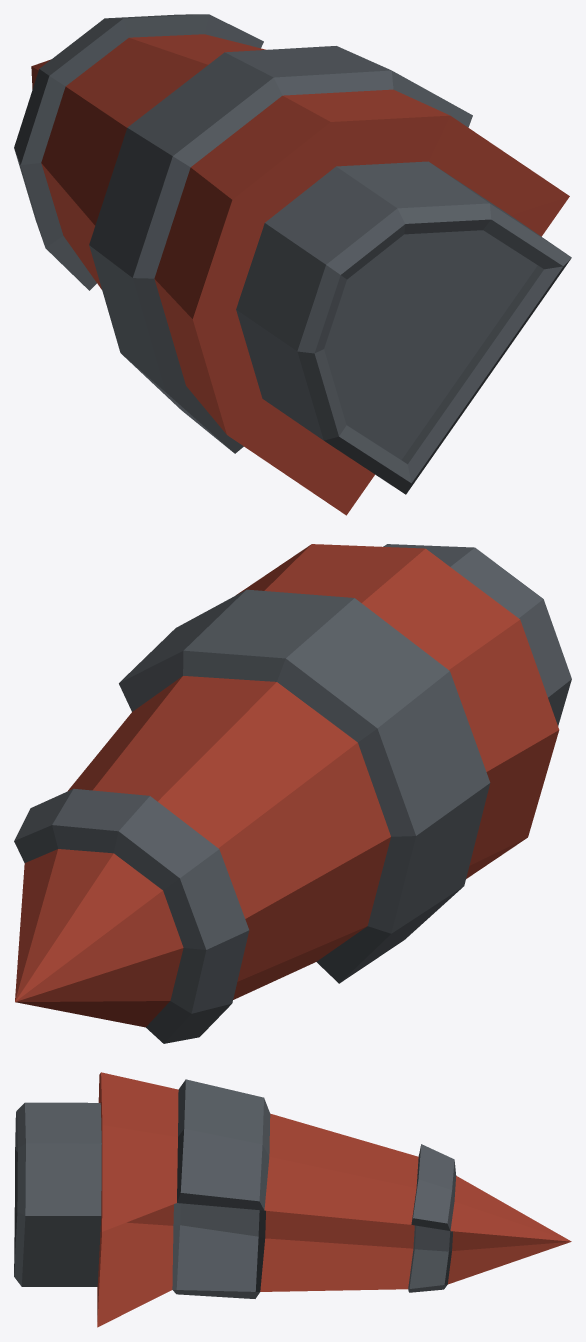
The model's file is Dropship_03_Booster_Red.fbx.
3 renders of one model, top to bottom at view 1: azimuth 30°, elevation 25°; view 2: azimuth 150°, elevation 25°; view 3: azimuth 270°, elevation 25°, orthographic. The views are drawn at different scales.
Visible parts, largest first — view 1: Dropship_03_Booster_Red; view 2: Dropship_03_Booster_Red; view 3: Dropship_03_Booster_Red.
Part boxes in pixels (x1,y1,x2,y2): Dropship_03_Booster_Red: (14, 14, 571, 515); Dropship_03_Booster_Red: (14, 544, 571, 1043); Dropship_03_Booster_Red: (14, 1072, 571, 1327).
Bounding box in the file's own units: 64.13 × 63.53 × 128.
1 material, 1 textured.
